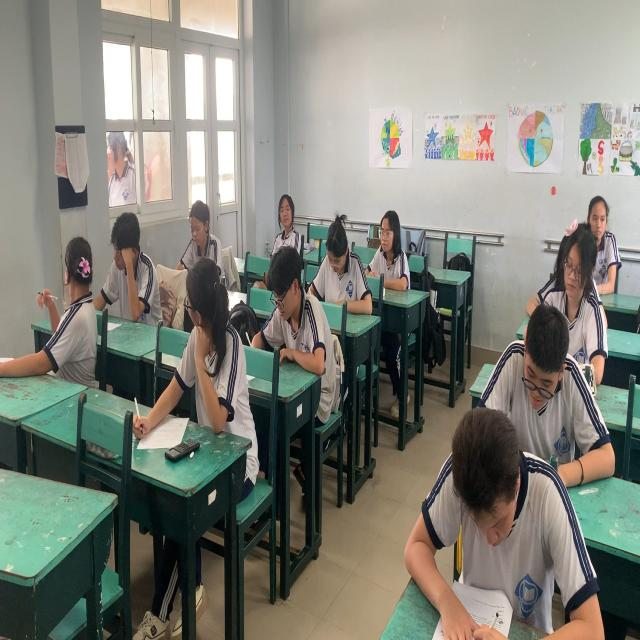cheating: (169, 262, 239, 442), (33, 231, 101, 379)
not_cheating: (410, 411, 556, 624), (492, 313, 592, 472), (252, 244, 332, 379), (544, 227, 604, 382), (97, 209, 167, 331), (572, 183, 626, 307), (314, 216, 370, 317), (365, 210, 420, 304), (174, 186, 220, 264), (255, 186, 298, 237)
